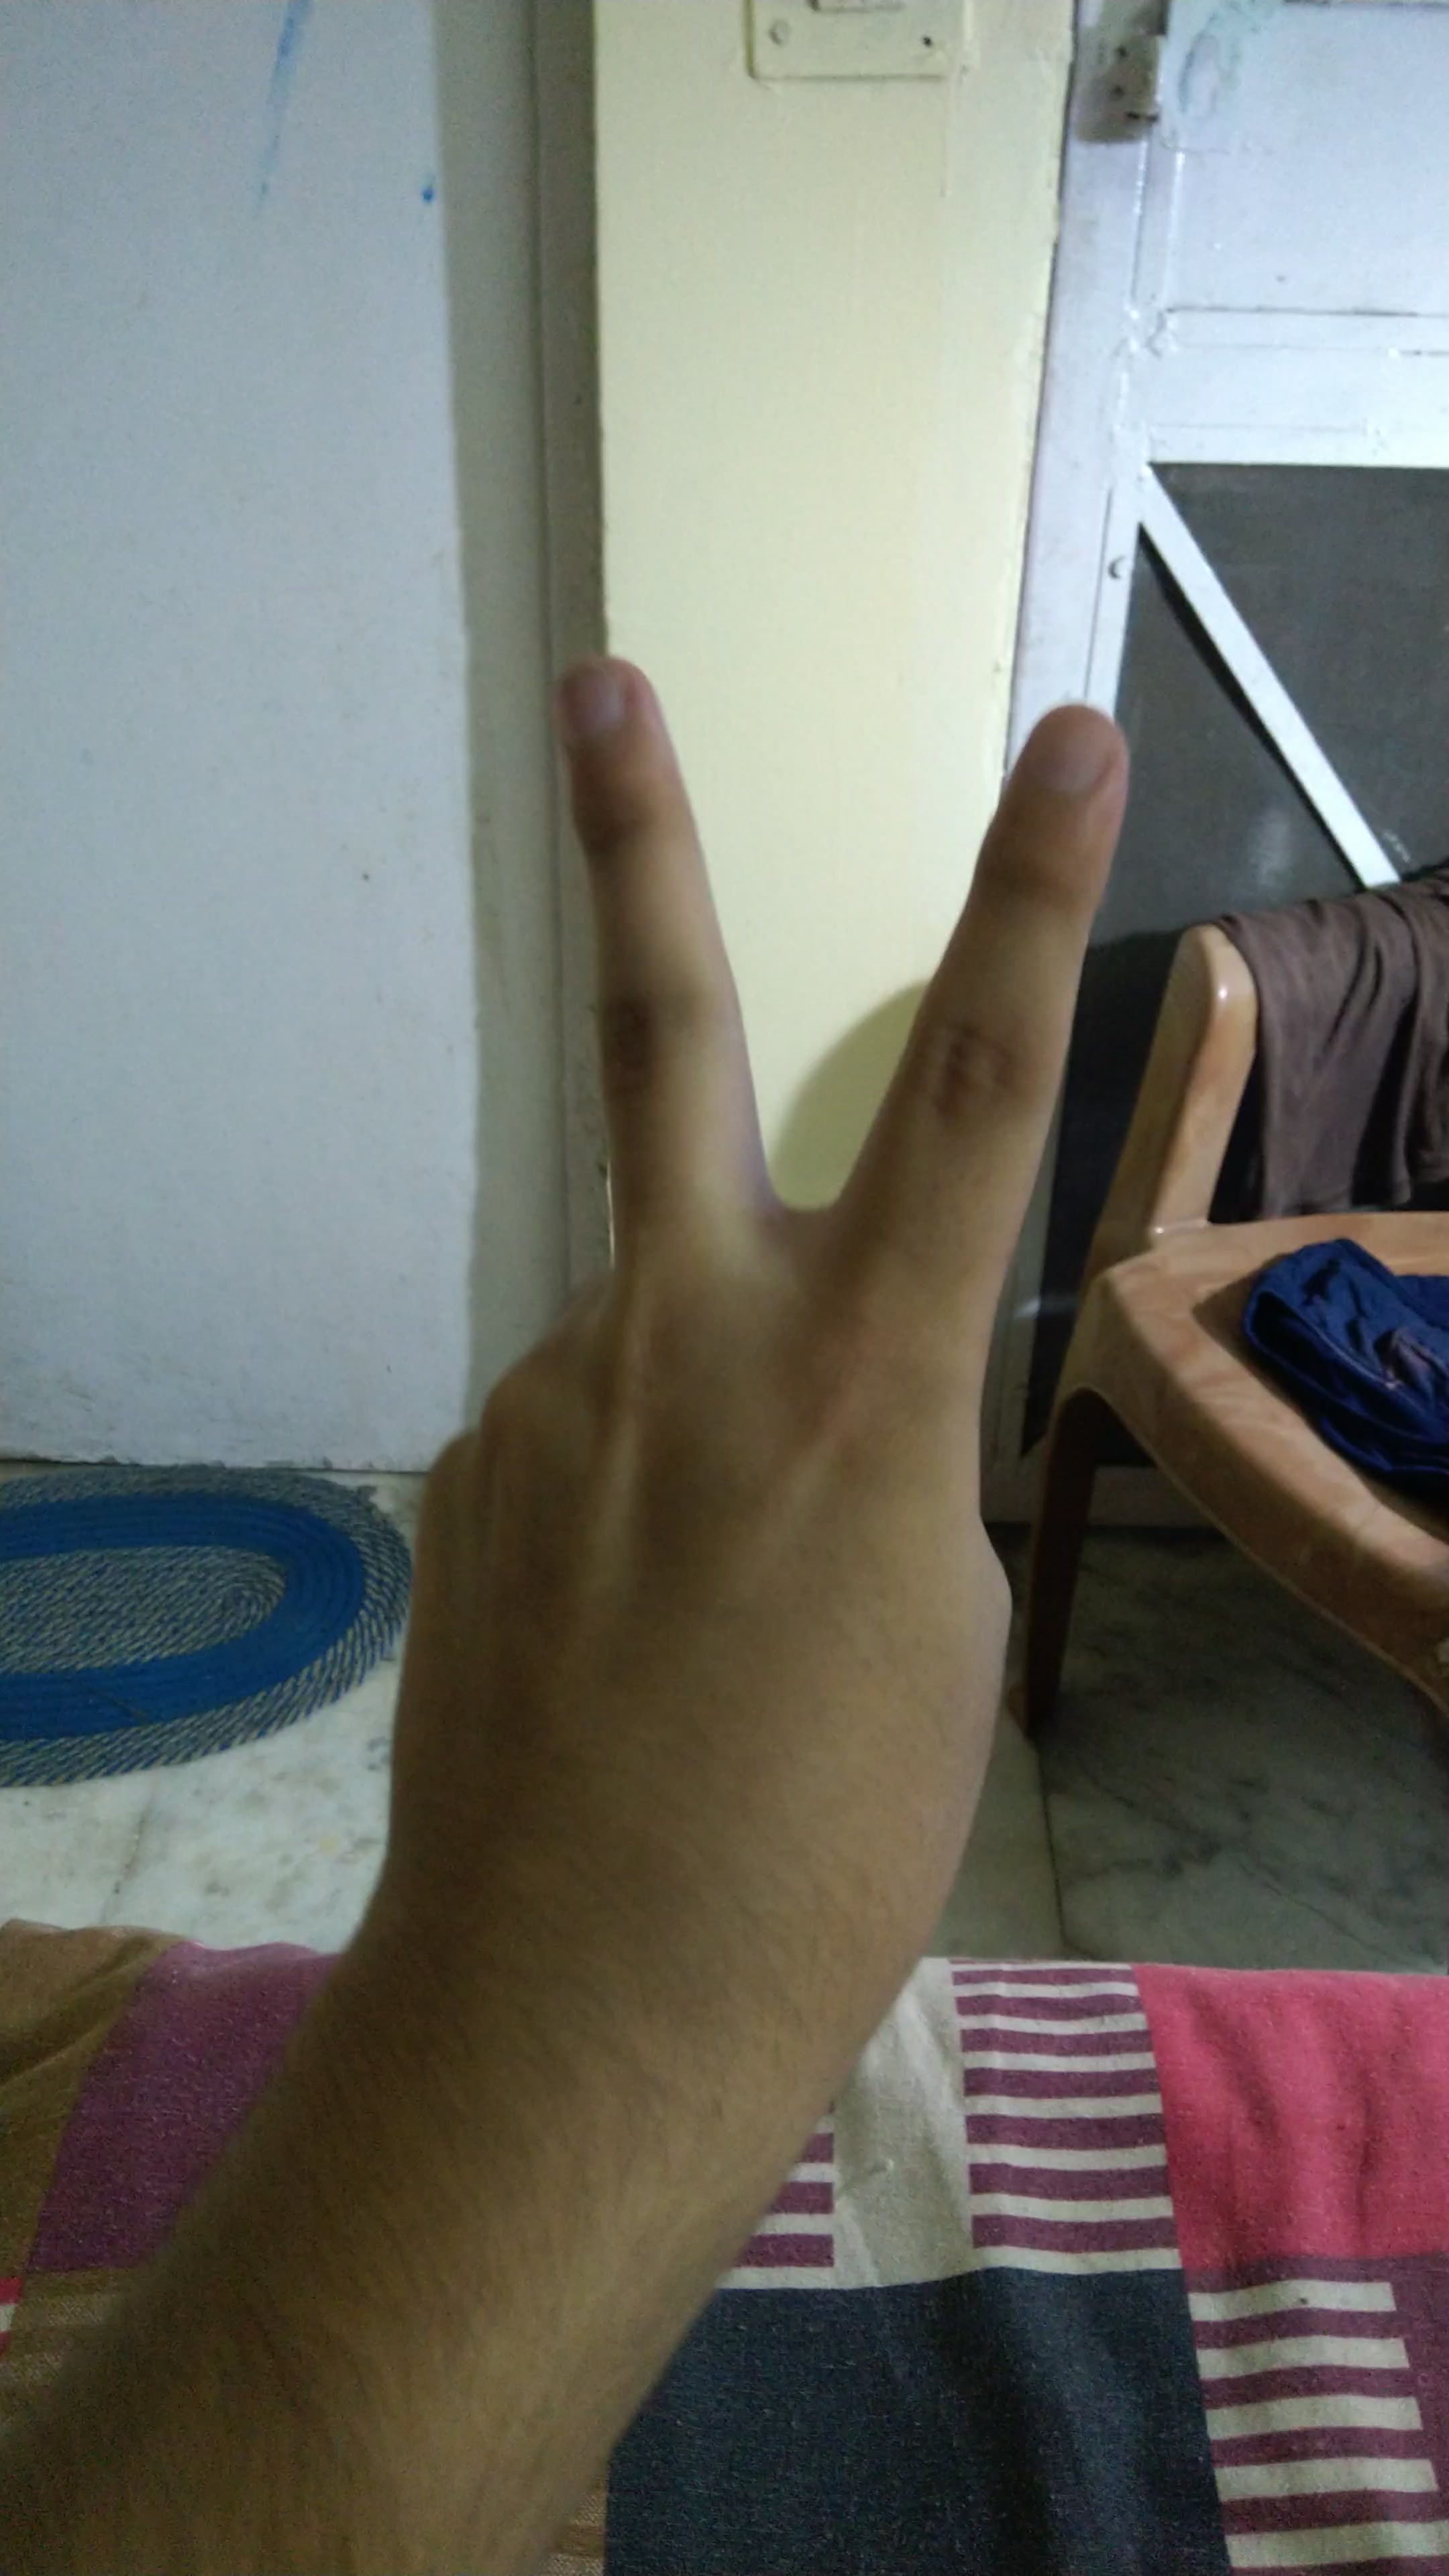hand: (248, 610, 1192, 2038)
